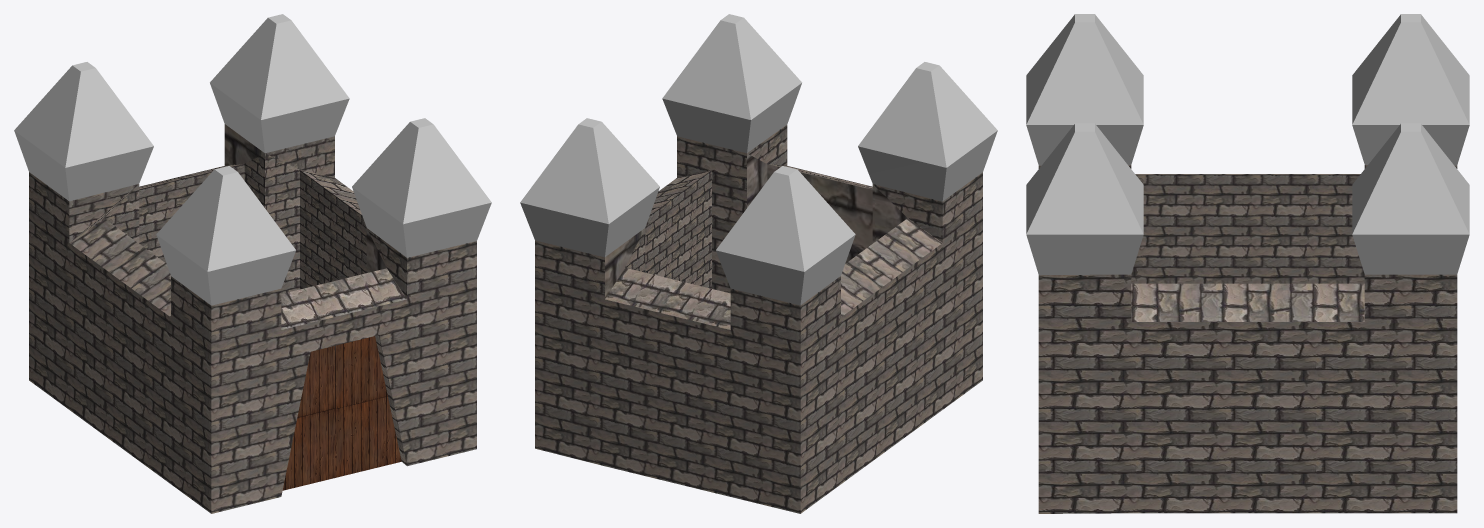
The model's file is castle New Texture.FBX.
The picture shows the model from 3 angles, left to right: view 1: azimuth 30°, elevation 25°; view 2: azimuth 150°, elevation 25°; view 3: azimuth 270°, elevation 25°; orthographic projection. The views are drawn at different scales.
Visible parts, largest first — view 1: Castle; view 2: Castle; view 3: Castle.
Boxes of the visible parts, x1,y1,x2,y2 form: Castle: [14, 14, 491, 513]; Castle: [520, 14, 997, 513]; Castle: [1026, 14, 1469, 513].
Bounding box in the file's own units: 81.42 × 87.53 × 95.9.
